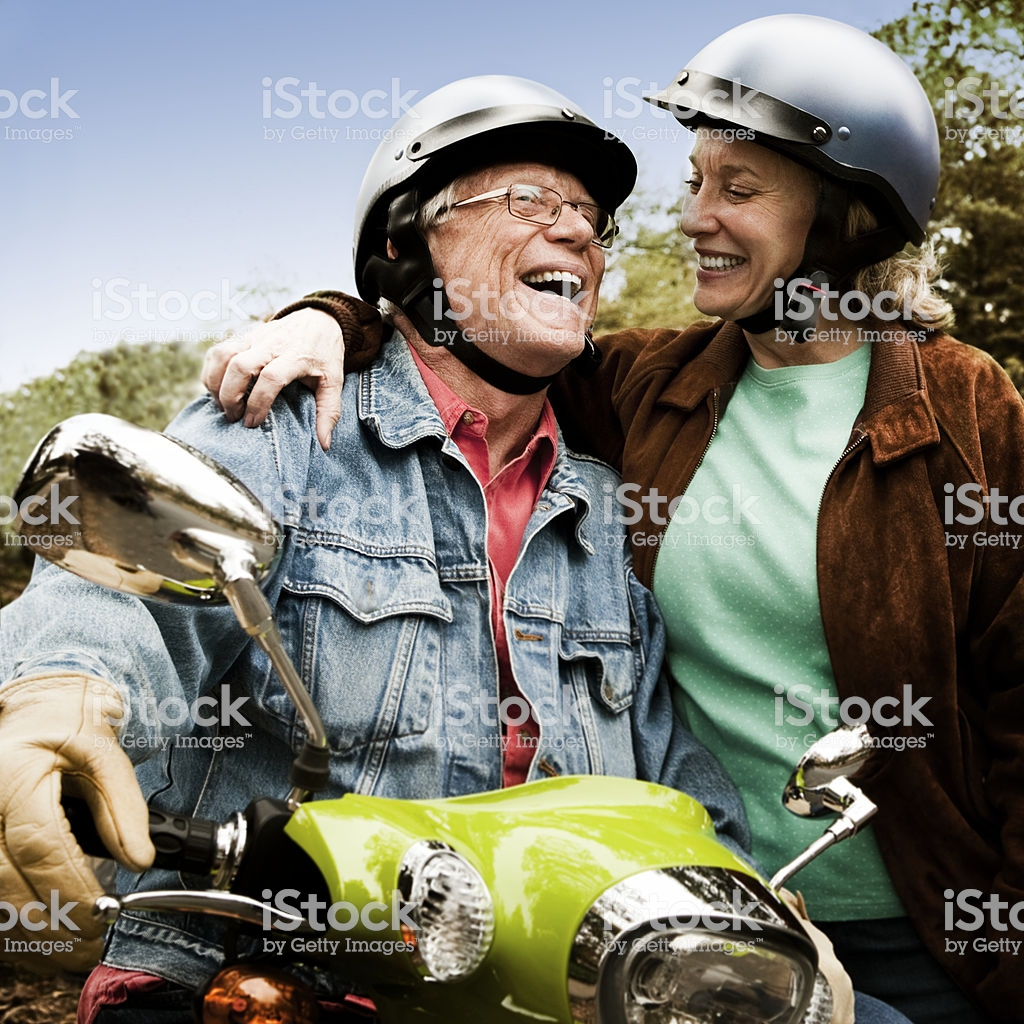helmet: (673, 20, 964, 232), (356, 64, 609, 217)
